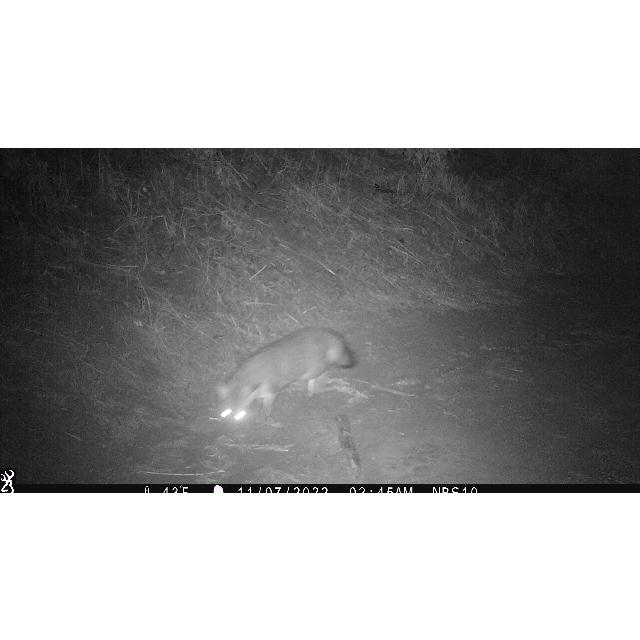animals: (218, 325, 358, 431)
